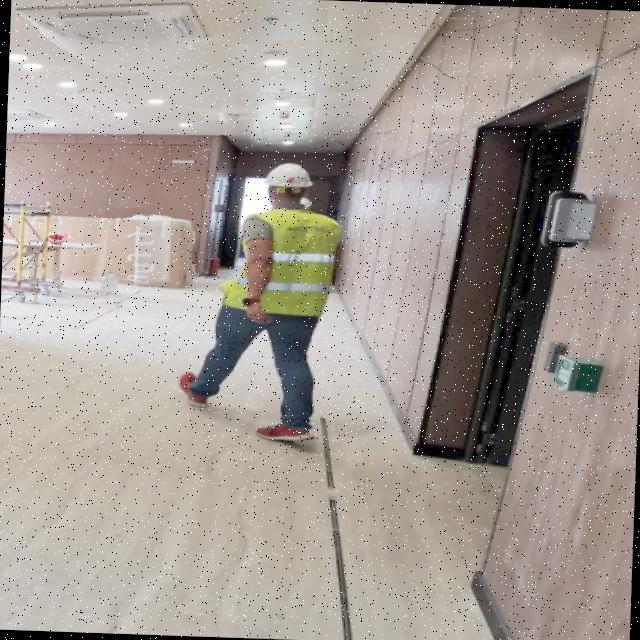Helmet: (259, 163, 321, 215)
